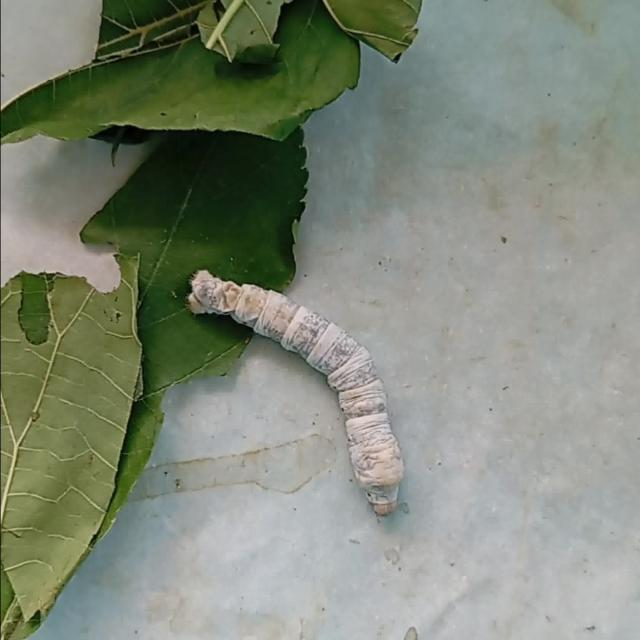Grasserie: (146, 248, 460, 529)
